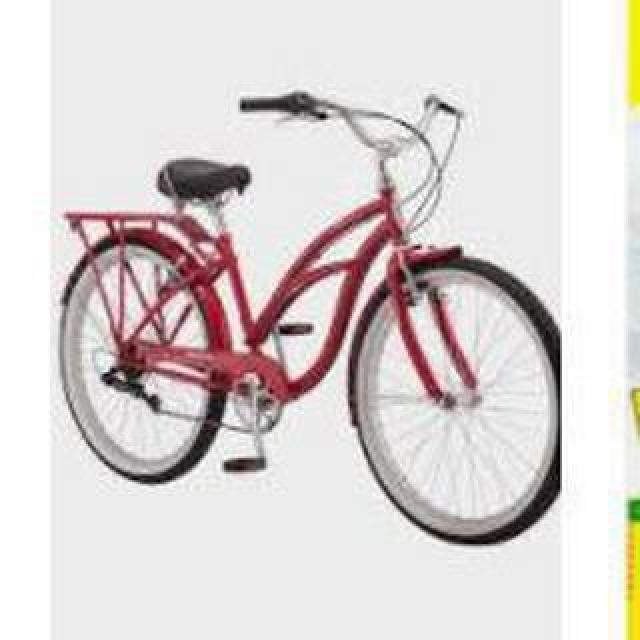Person: (57, 91, 573, 547)
